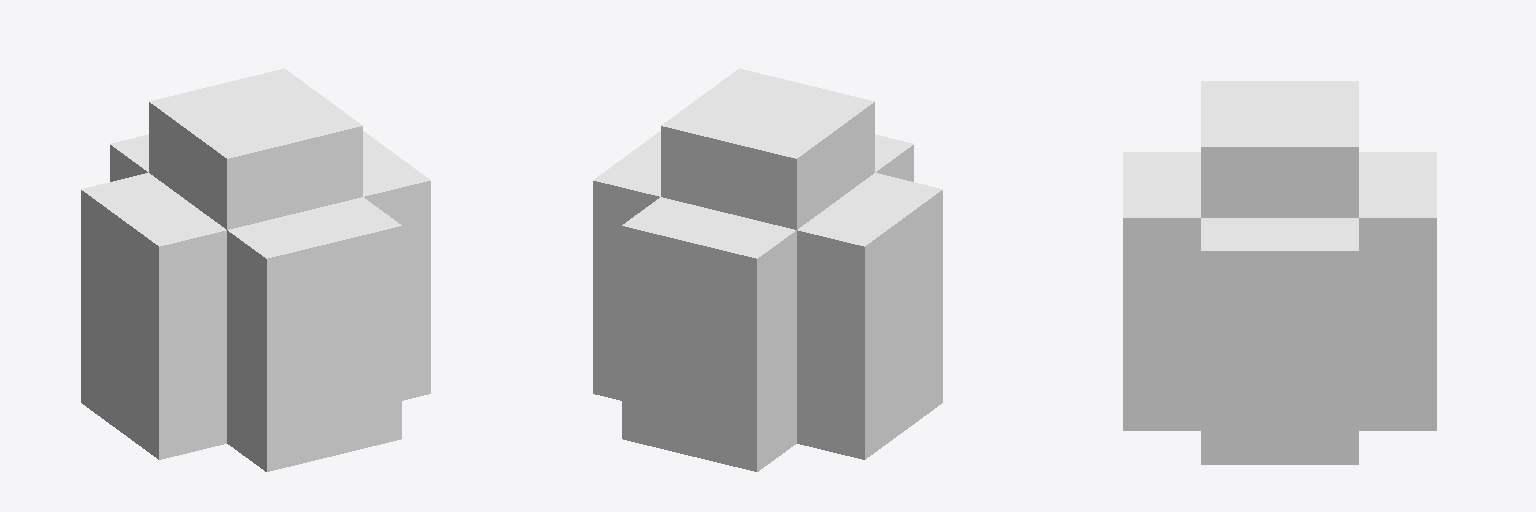
The model's file is Press-0-light.obj.
3 views of the same model, side by side, from view 1: azimuth 30°, elevation 25°; view 2: azimuth 150°, elevation 25°; view 3: azimuth 270°, elevation 25° (orthographic).
Visible parts, largest first — view 1: light; view 2: light; view 3: light.
Part boxes in pixels (left/top/right/bottom): light: left=81, top=68, right=430, bottom=471; light: left=593, top=68, right=942, bottom=471; light: left=1123, top=81, right=1436, bottom=464.
Bounding box in the file's own units: 0.4 × 0.4 × 0.4.